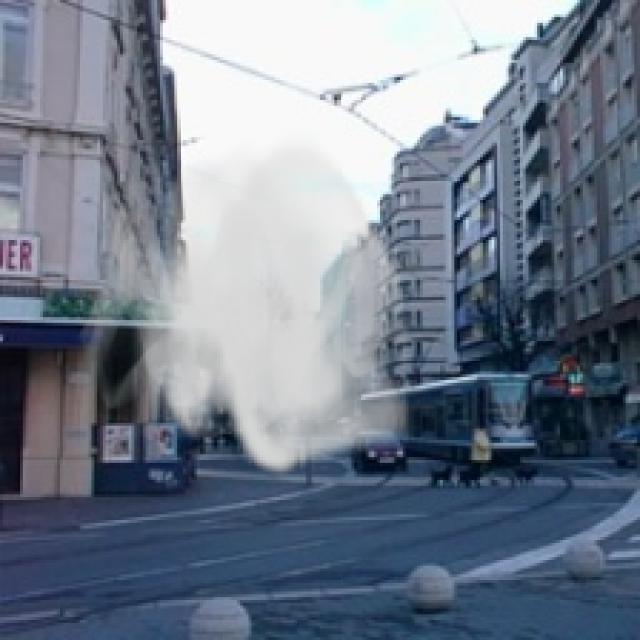smoke: (71, 129, 420, 477)
